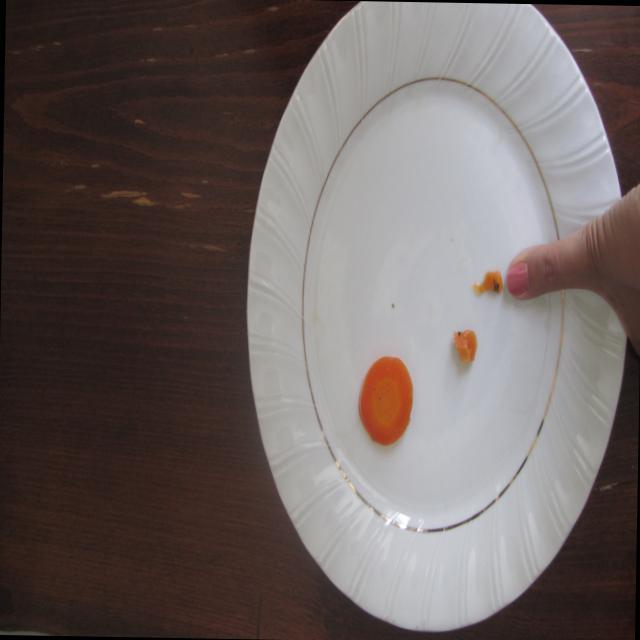Carrot: (347, 347, 423, 462)
Finger: (502, 229, 564, 308)
